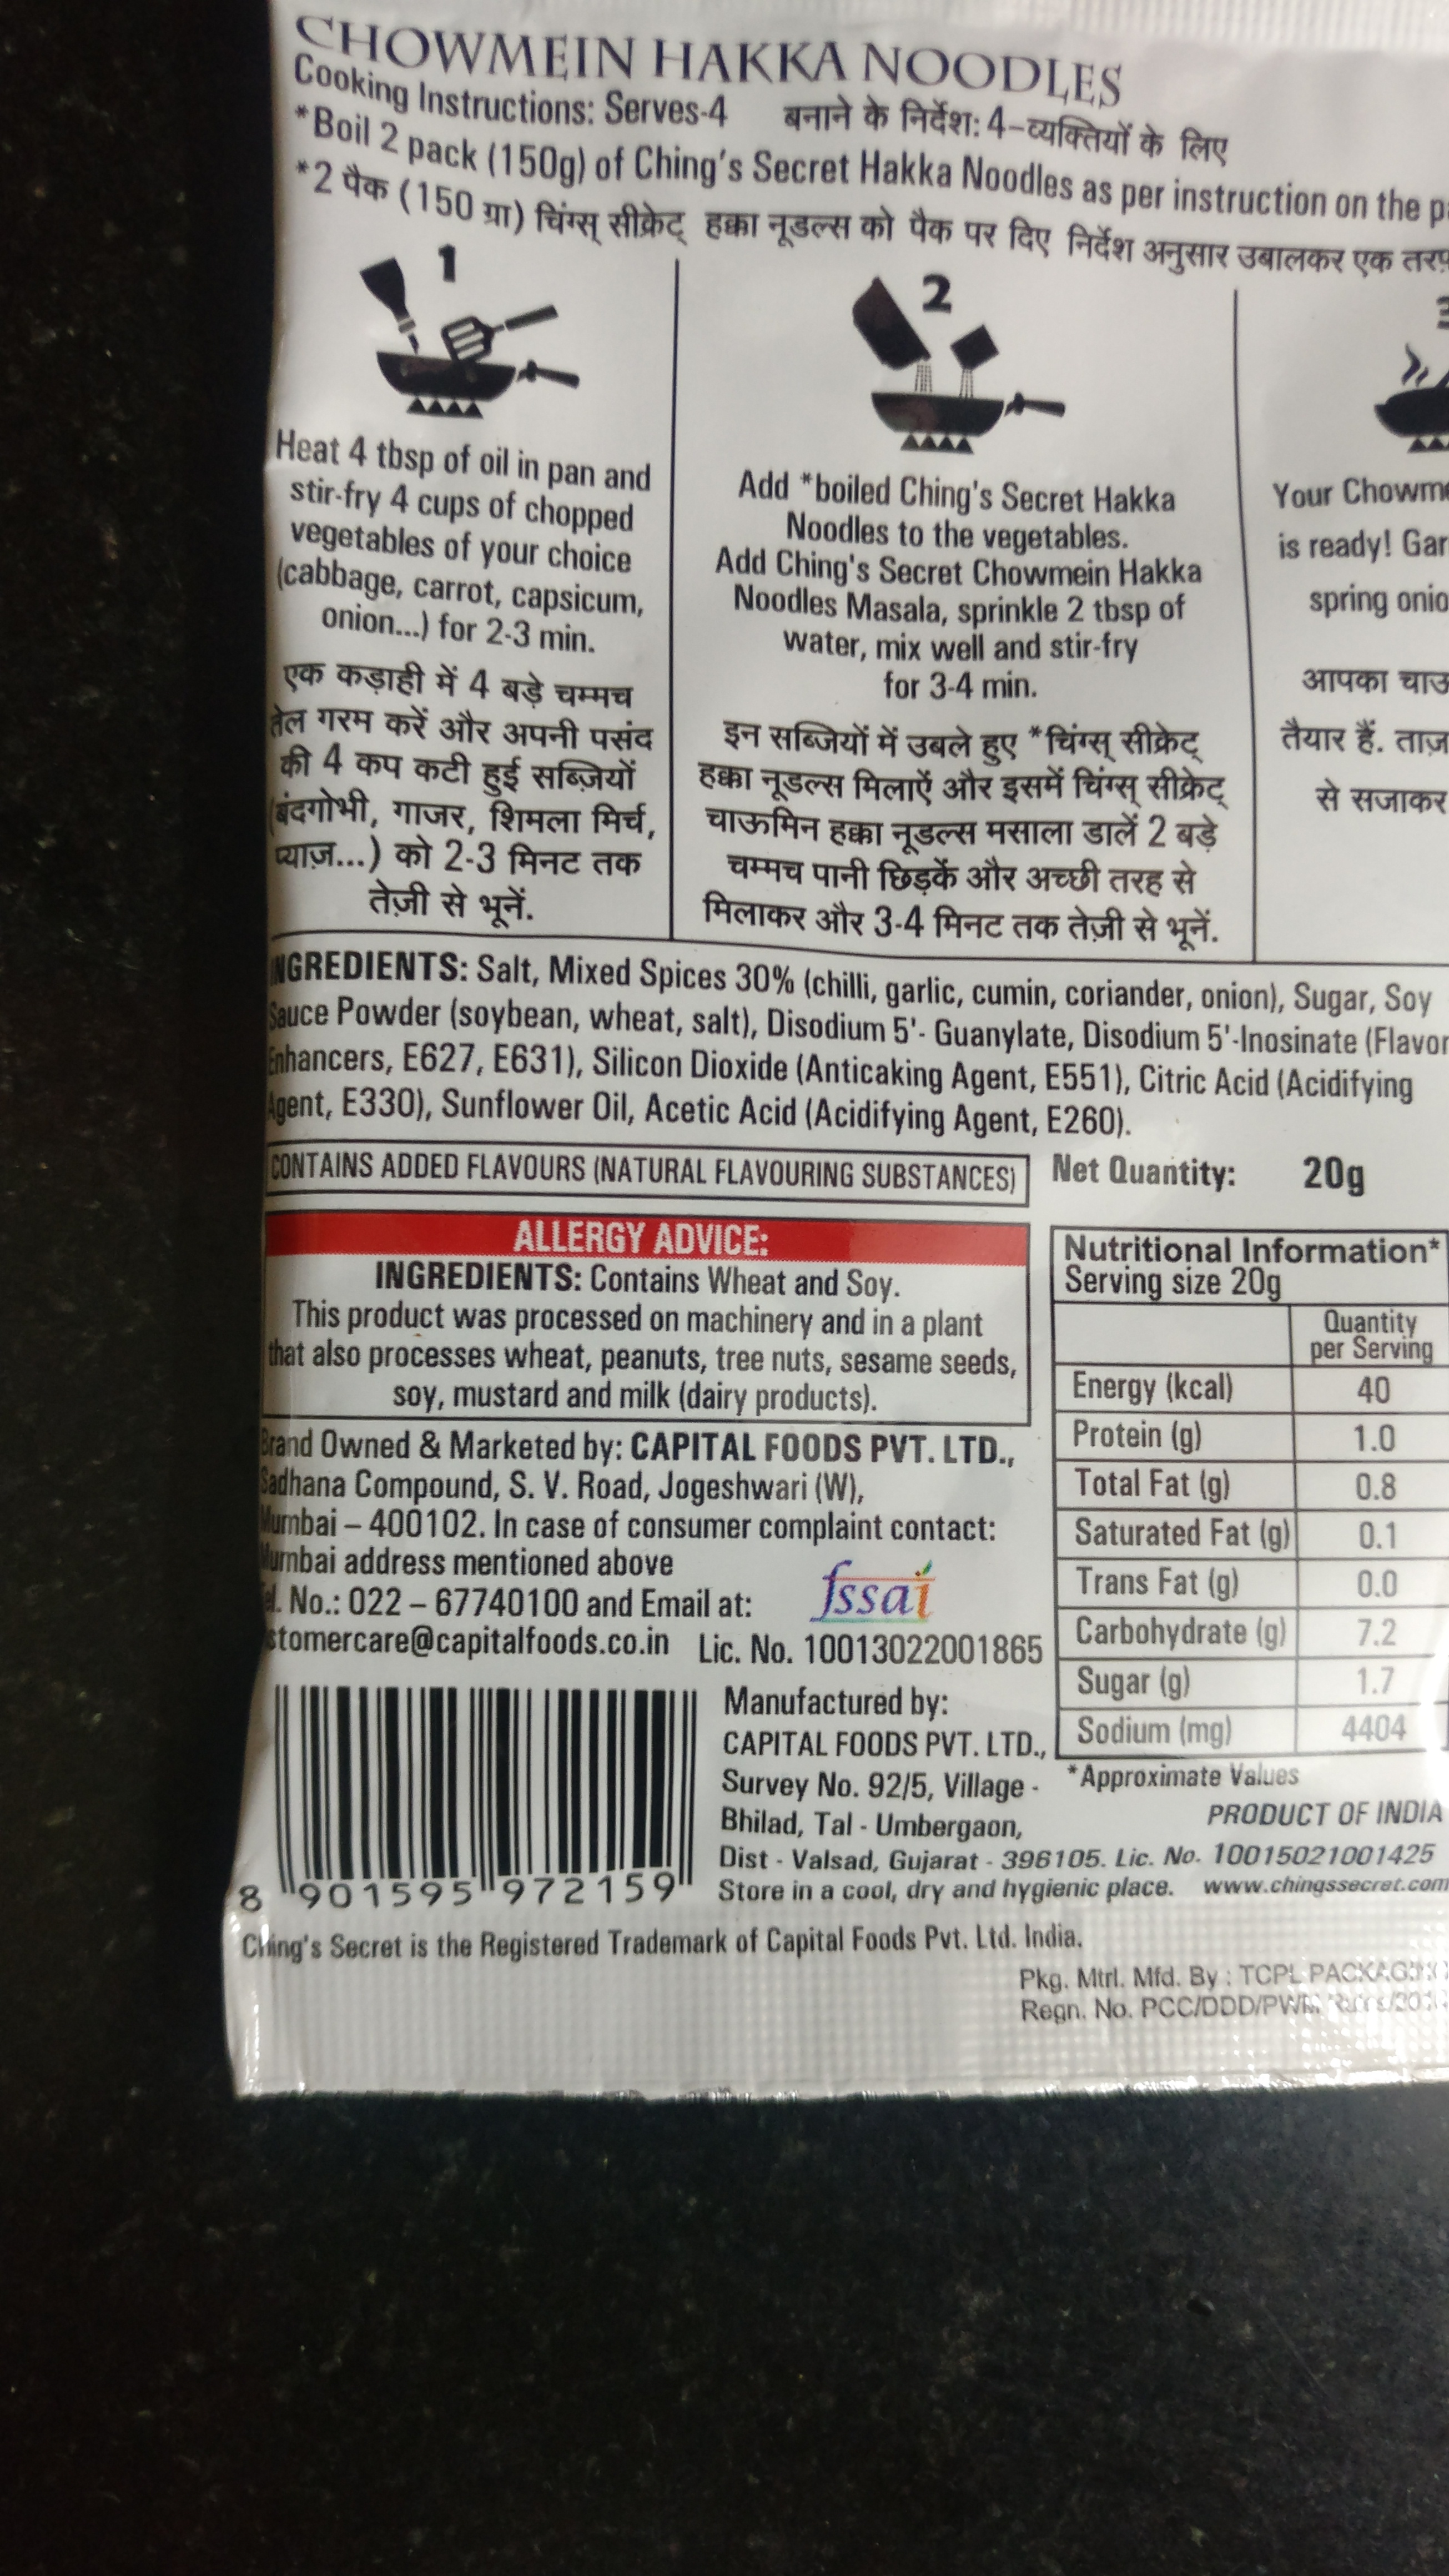barcode: (248, 1674, 711, 1927)
